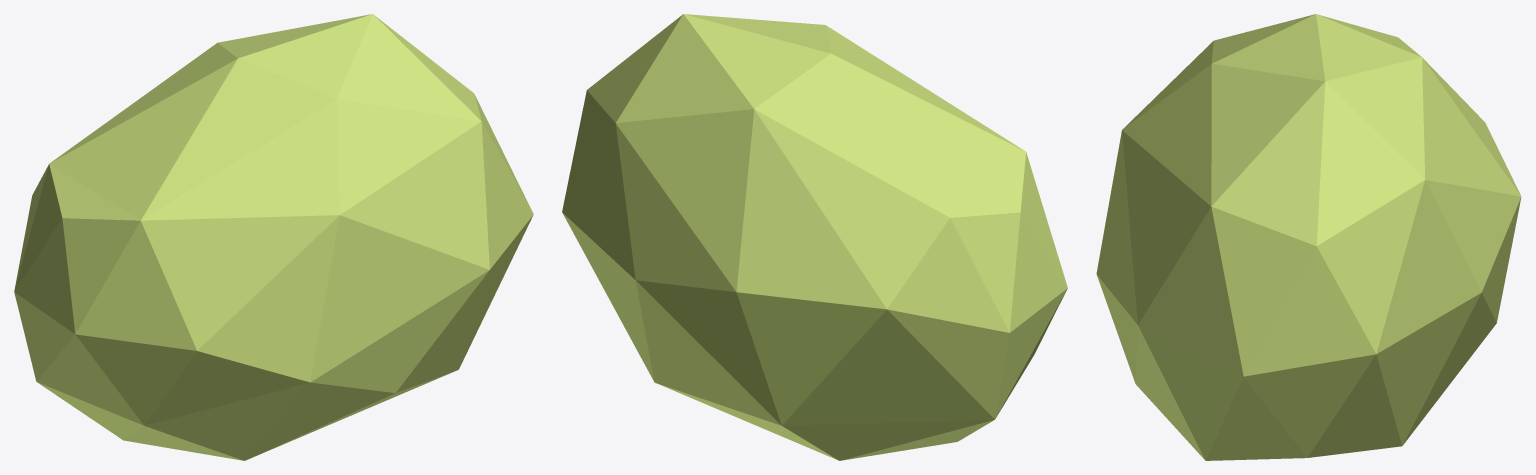
The model's file is Bush_g_m_05.fbx.
3 renders of one model, left to right at view 1: azimuth 30°, elevation 25°; view 2: azimuth 150°, elevation 25°; view 3: azimuth 270°, elevation 25°, orthographic. The views are drawn at different scales.
Visible parts, largest first — view 1: Bush_g_m_05; view 2: Bush_g_m_05; view 3: Bush_g_m_05.
Part boxes in pixels (x1,y1,x2,y2): Bush_g_m_05: (14, 14, 533, 460); Bush_g_m_05: (562, 14, 1067, 460); Bush_g_m_05: (1096, 14, 1521, 460).
Size of the model in its own units: 157 by 124 by 112.
